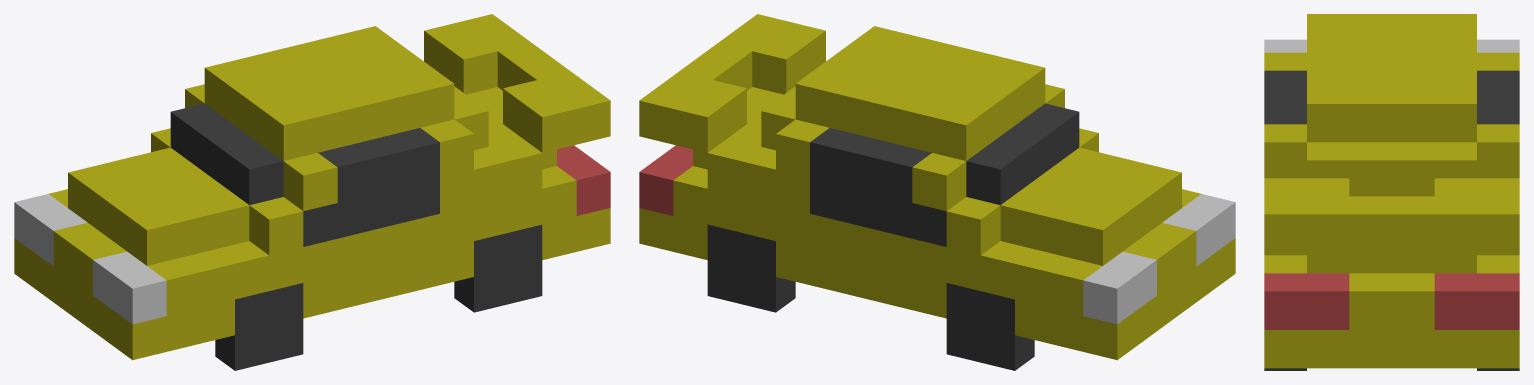
Rendered from racer-v3-yellow.gltf.
3 renders of one model, left to right at view 1: azimuth 30°, elevation 25°; view 2: azimuth 150°, elevation 25°; view 3: azimuth 270°, elevation 25°, orthographic. The views are drawn at different scales.
Parts seen in each view (by area): view 1: model, wheels; view 2: model, wheels; view 3: model, wheels.
Boxes of the visible parts, x1,y1,x2,y2 form: model: [14, 14, 610, 360]; wheels: [215, 224, 542, 370]; model: [639, 14, 1235, 360]; wheels: [707, 224, 1034, 370]; model: [1264, 14, 1519, 368]; wheels: [1264, 368, 1519, 370].
Bounding box in the file's own units: 1.4 × 0.6 × 0.6.
2 materials, 2 textured.
